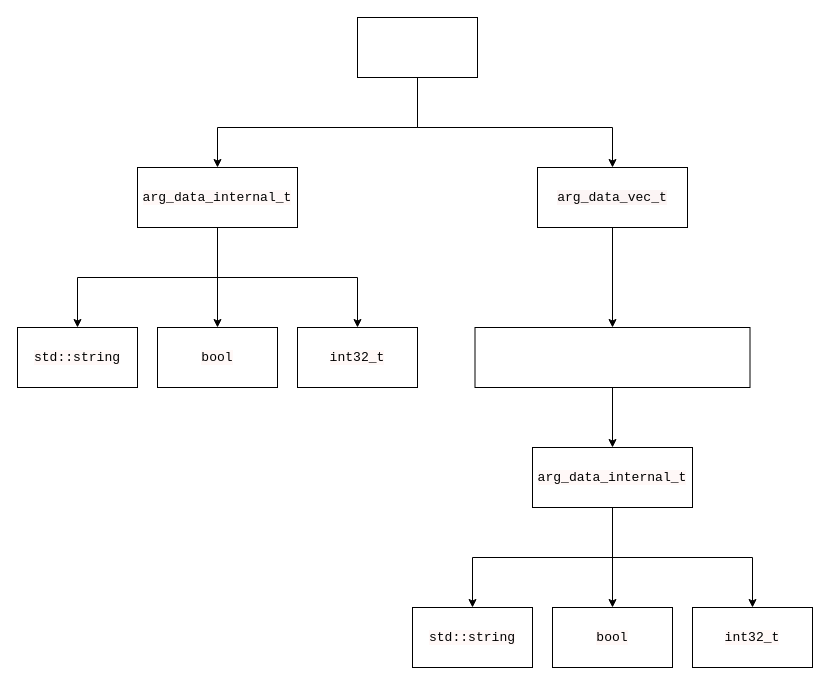
This 830x685 diagram has some shape labels left out. The centre of each missing label's shape, as x and y in pixels:
arg_data_t: the point at 417,47
std::vector<arg_data_internal_t>: the point at 612,357
